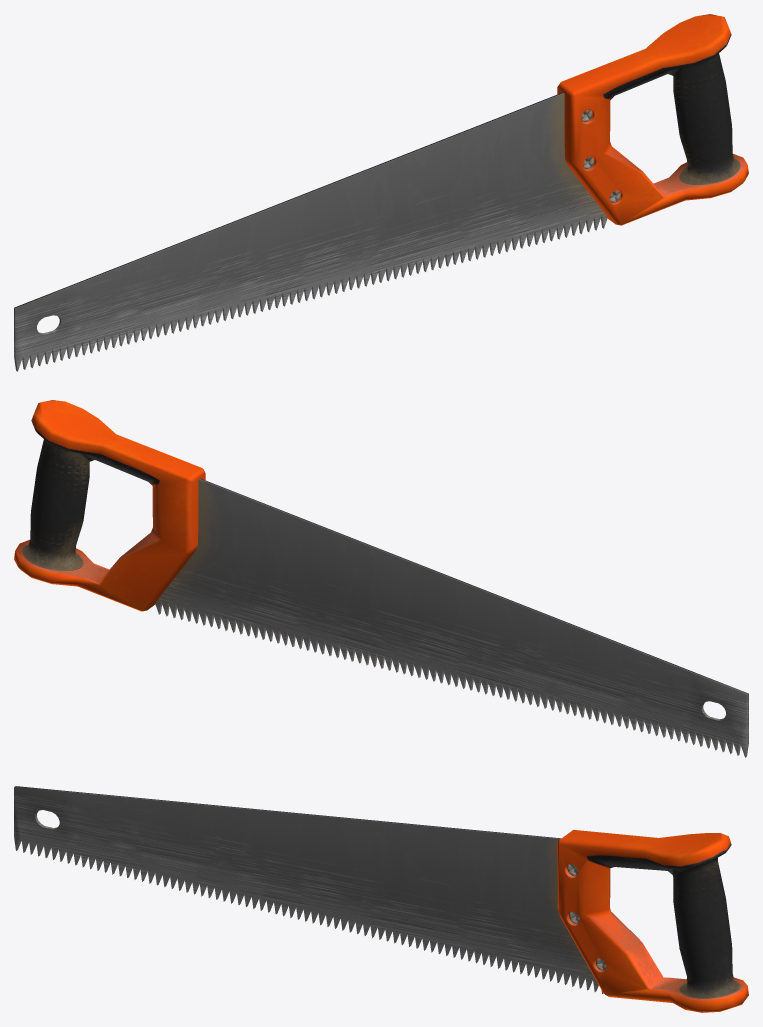
The model's file is handsaw.glb.
3 views of the same model, one above another, from view 1: azimuth 30°, elevation 25°; view 2: azimuth 150°, elevation 25°; view 3: azimuth 330°, elevation 25° (orthographic).
Visible parts, largest first — view 1: SawLow, HandleLow; view 2: SawLow, HandleLow; view 3: SawLow, HandleLow.
Part boxes in pixels (left/top/right/bottom): SawLow: left=14, top=92, right=607, bottom=371; HandleLow: left=557, top=14, right=748, bottom=225; SawLow: left=155, top=478, right=748, bottom=757; HandleLow: left=14, top=400, right=205, bottom=611; SawLow: left=14, top=786, right=603, bottom=993; HandleLow: left=557, top=830, right=748, bottom=1012.
Bounding box in the file's own units: 0.4342 × 0.1043 × 0.0347.
1 material, 1 textured.
